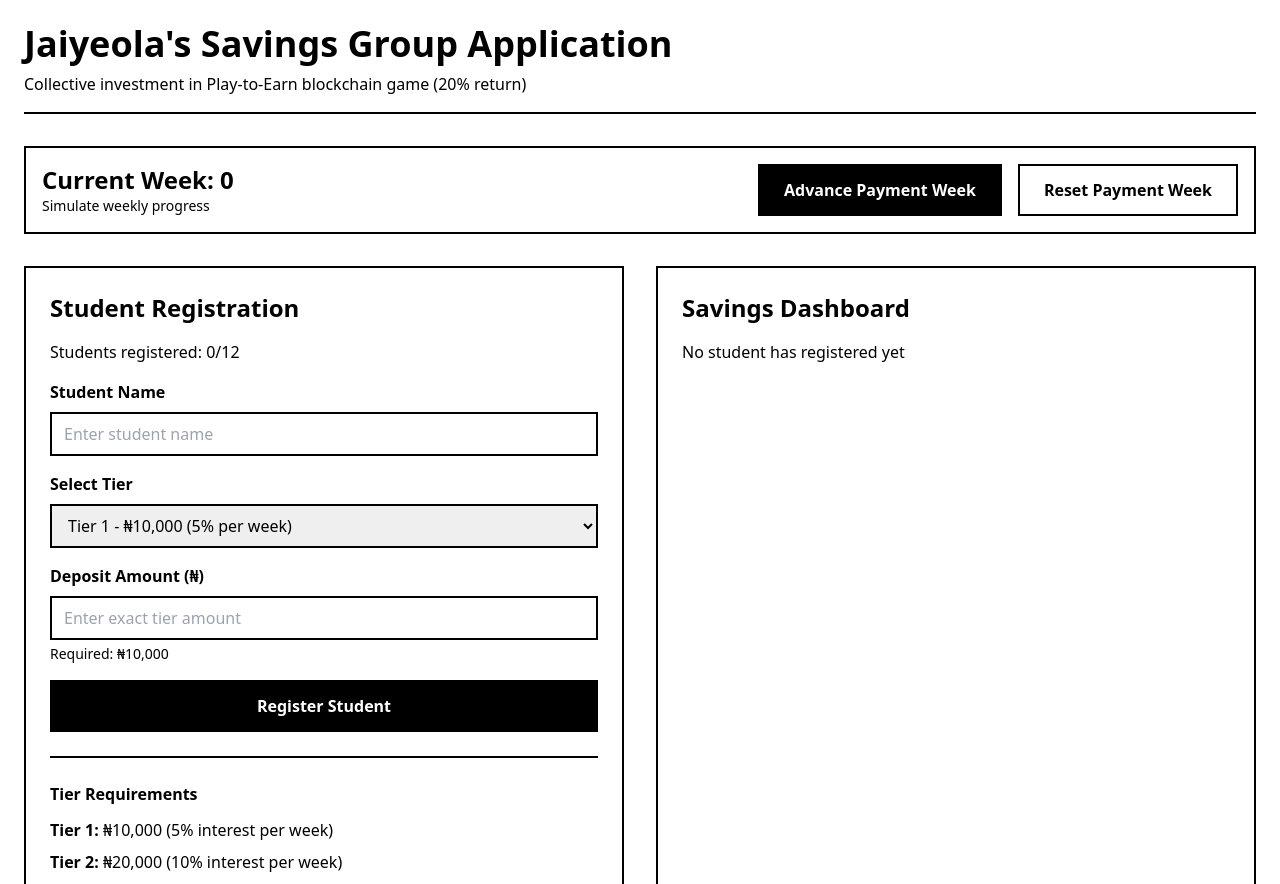
Savings Group Application › registers student with correct tier amount
The width and height of the screenshot is (1280, 884).
Type "John Doe" into the field with placeholder "Enter student name" at (324, 434), box [50,412,598,456]
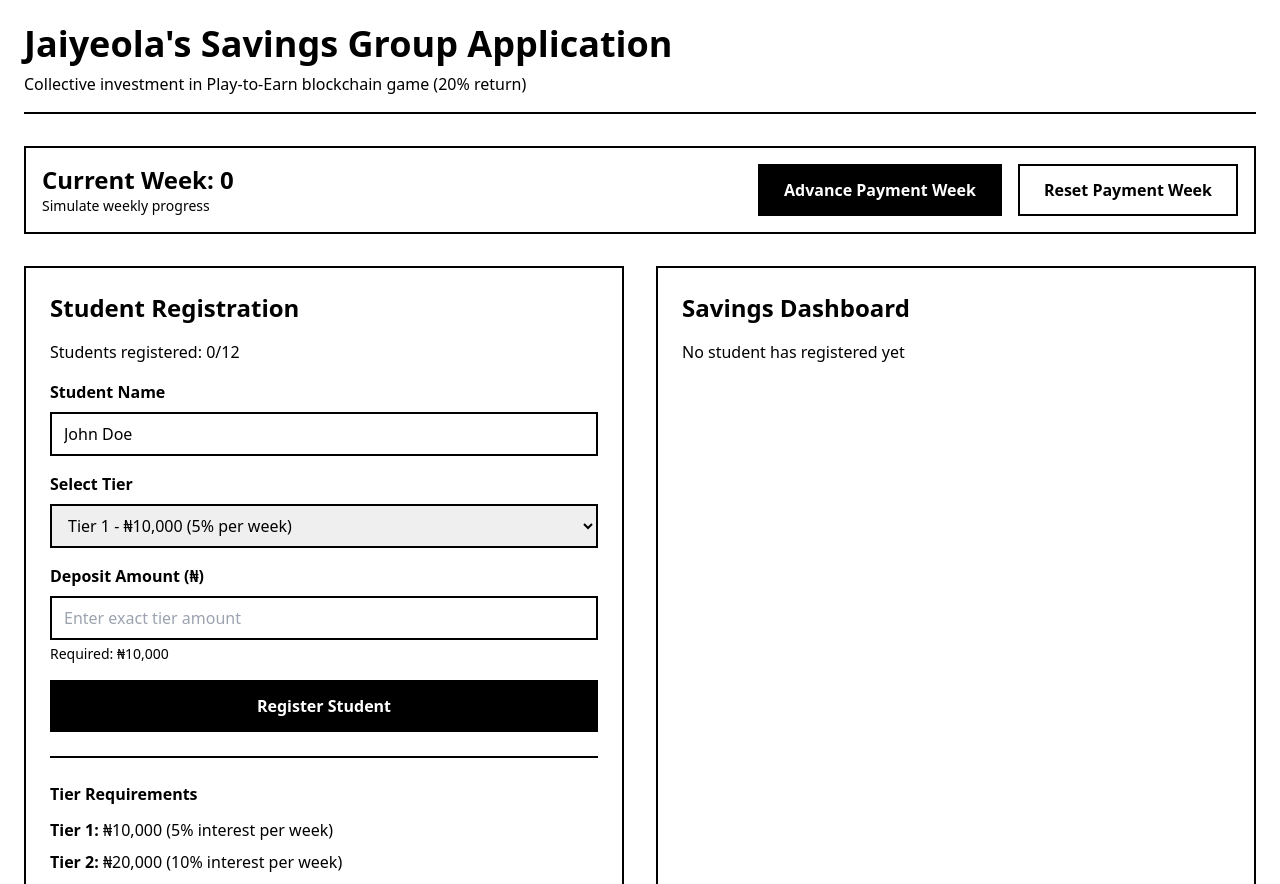
Type "10000" into the number field with placeholder "Enter exact tier amount" at (324, 618), box [50,596,598,640]
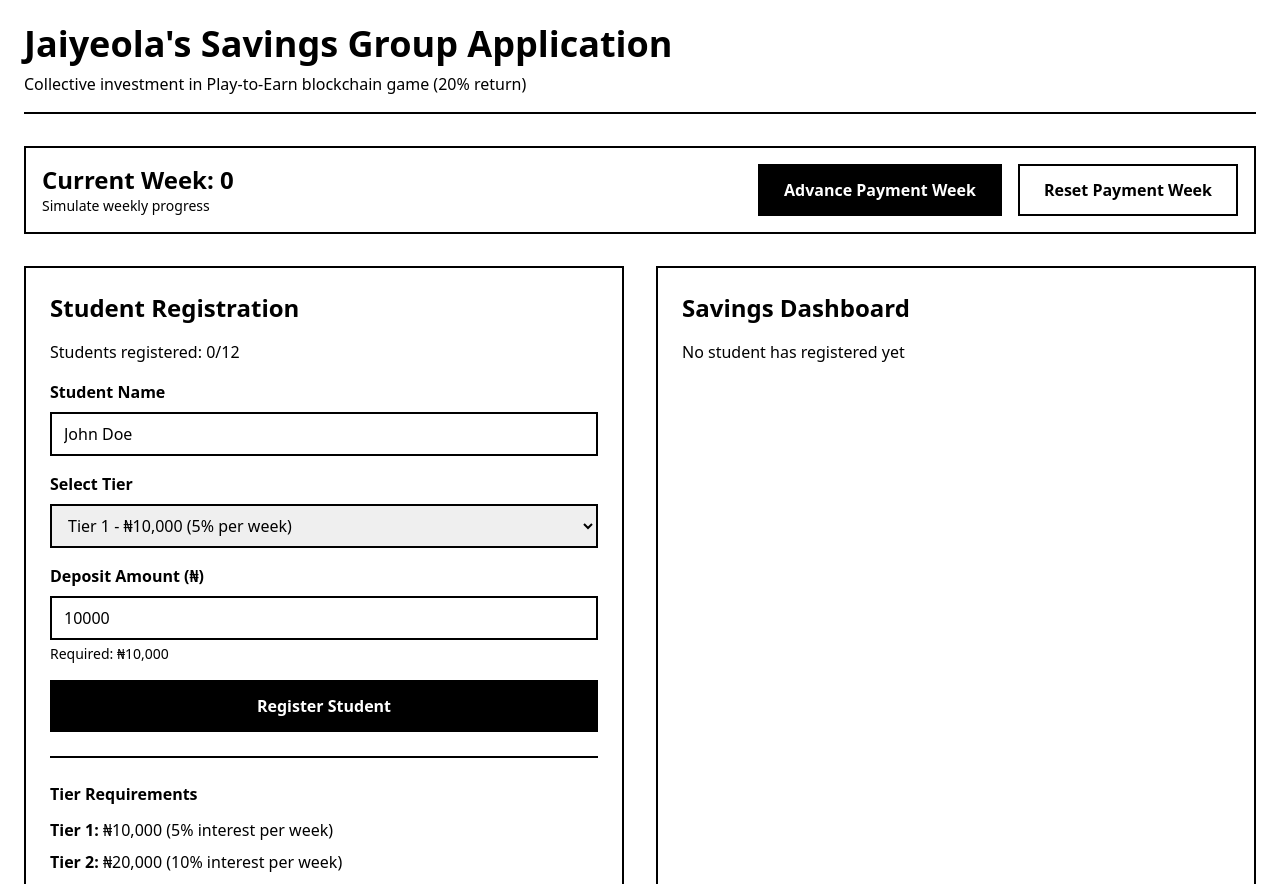
Click the button "Register Student" at (324, 706), box [50,680,598,732]
(page scrolled)
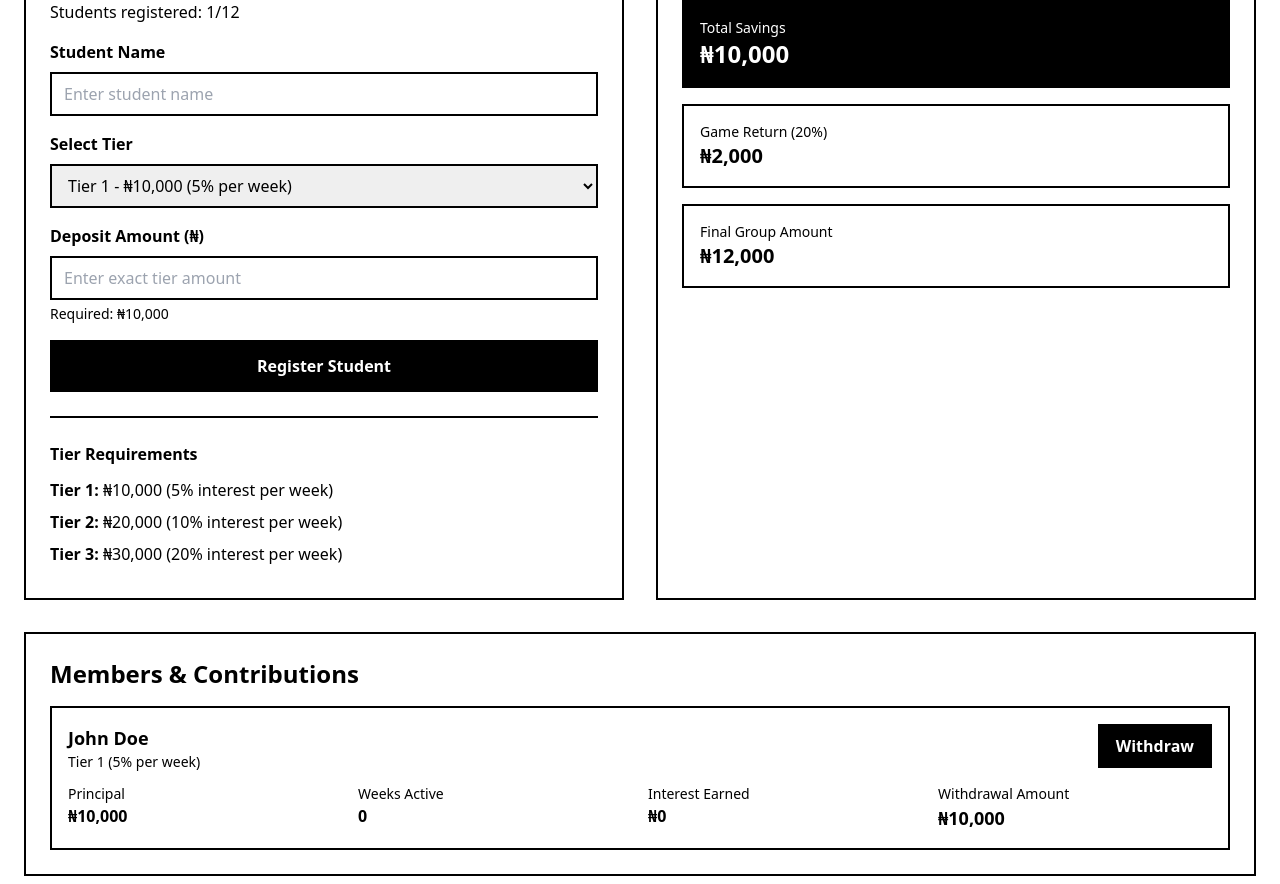
Now the text "John Doe" is shown, box [68,726,148,750]
